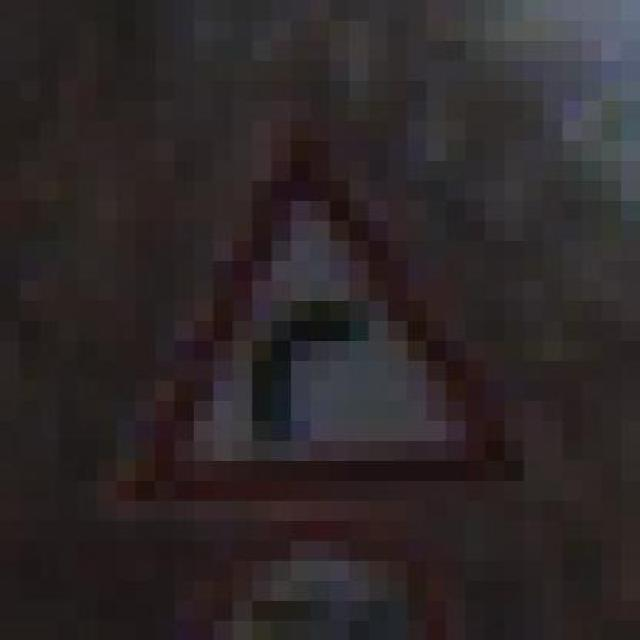Dangerous Rright Curve Ahead: (97, 140, 543, 500)
